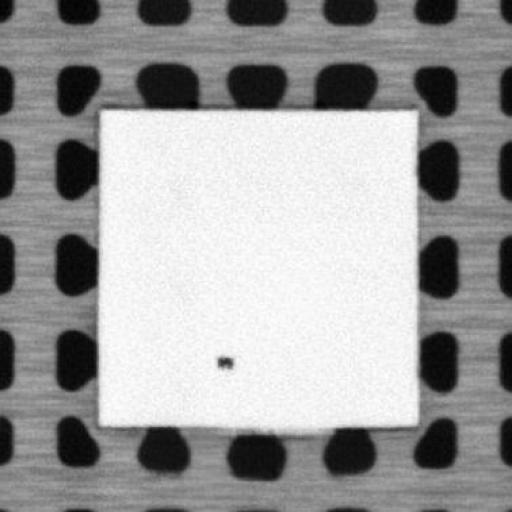DIE_INK: (212, 351, 234, 369)
